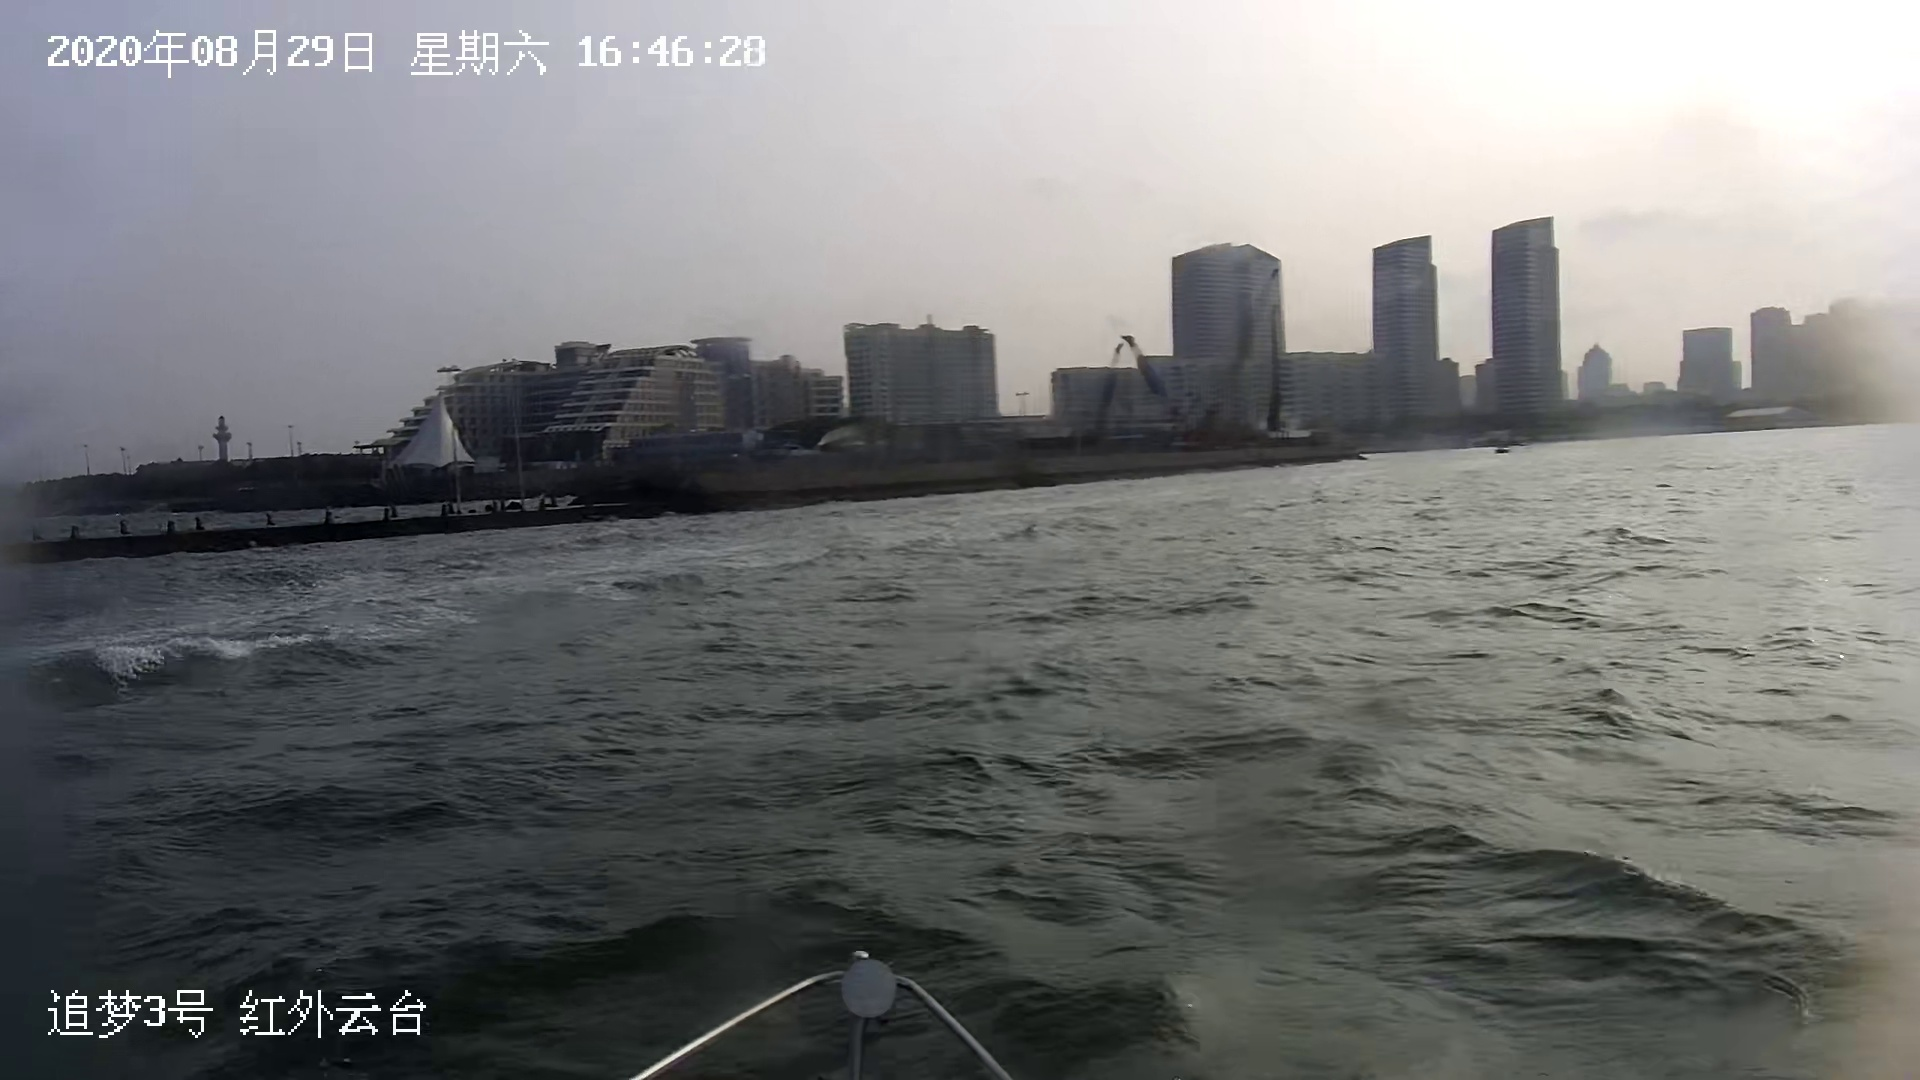coast: (17, 208, 1920, 572)
